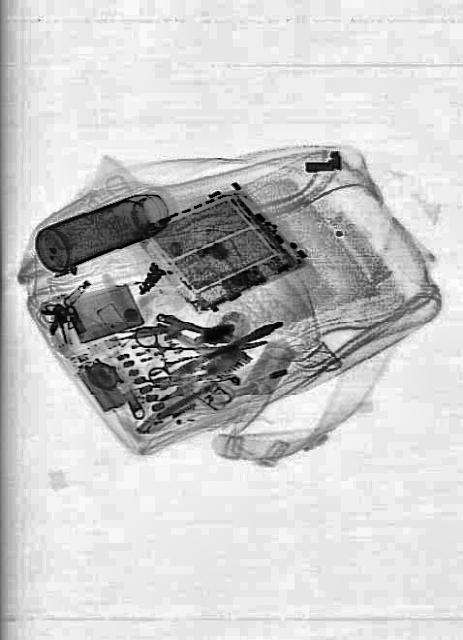Scissors: (132, 310, 268, 390)
